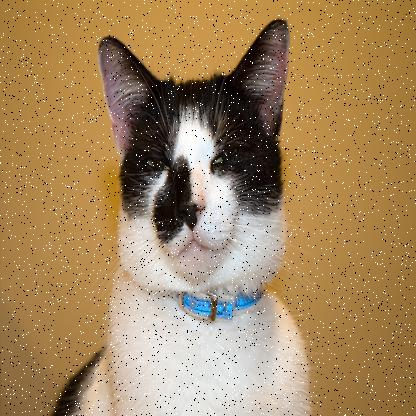cat: (64, 2, 313, 415)
